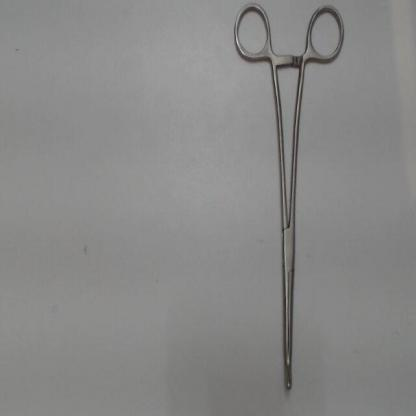Lahey Forceps: (228, 3, 349, 402)
